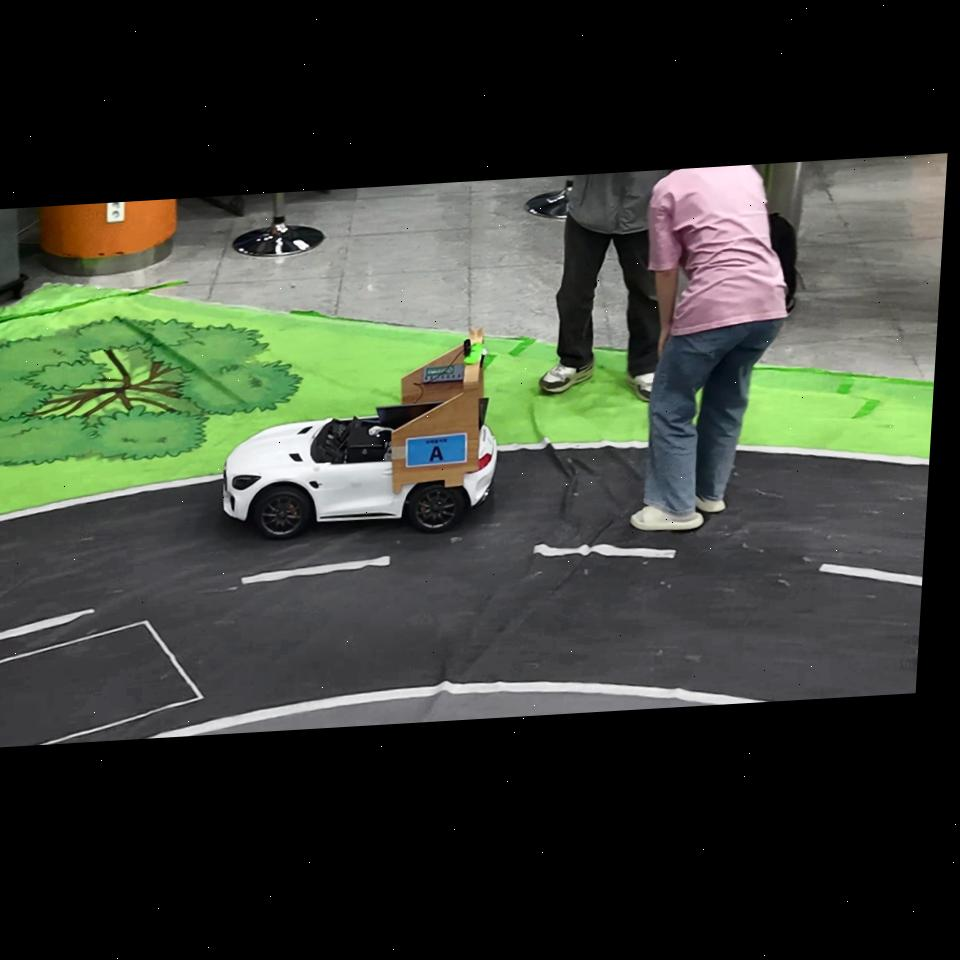broken_line: (241, 556, 390, 584), (0, 609, 95, 642), (819, 563, 922, 586), (534, 543, 676, 558)
